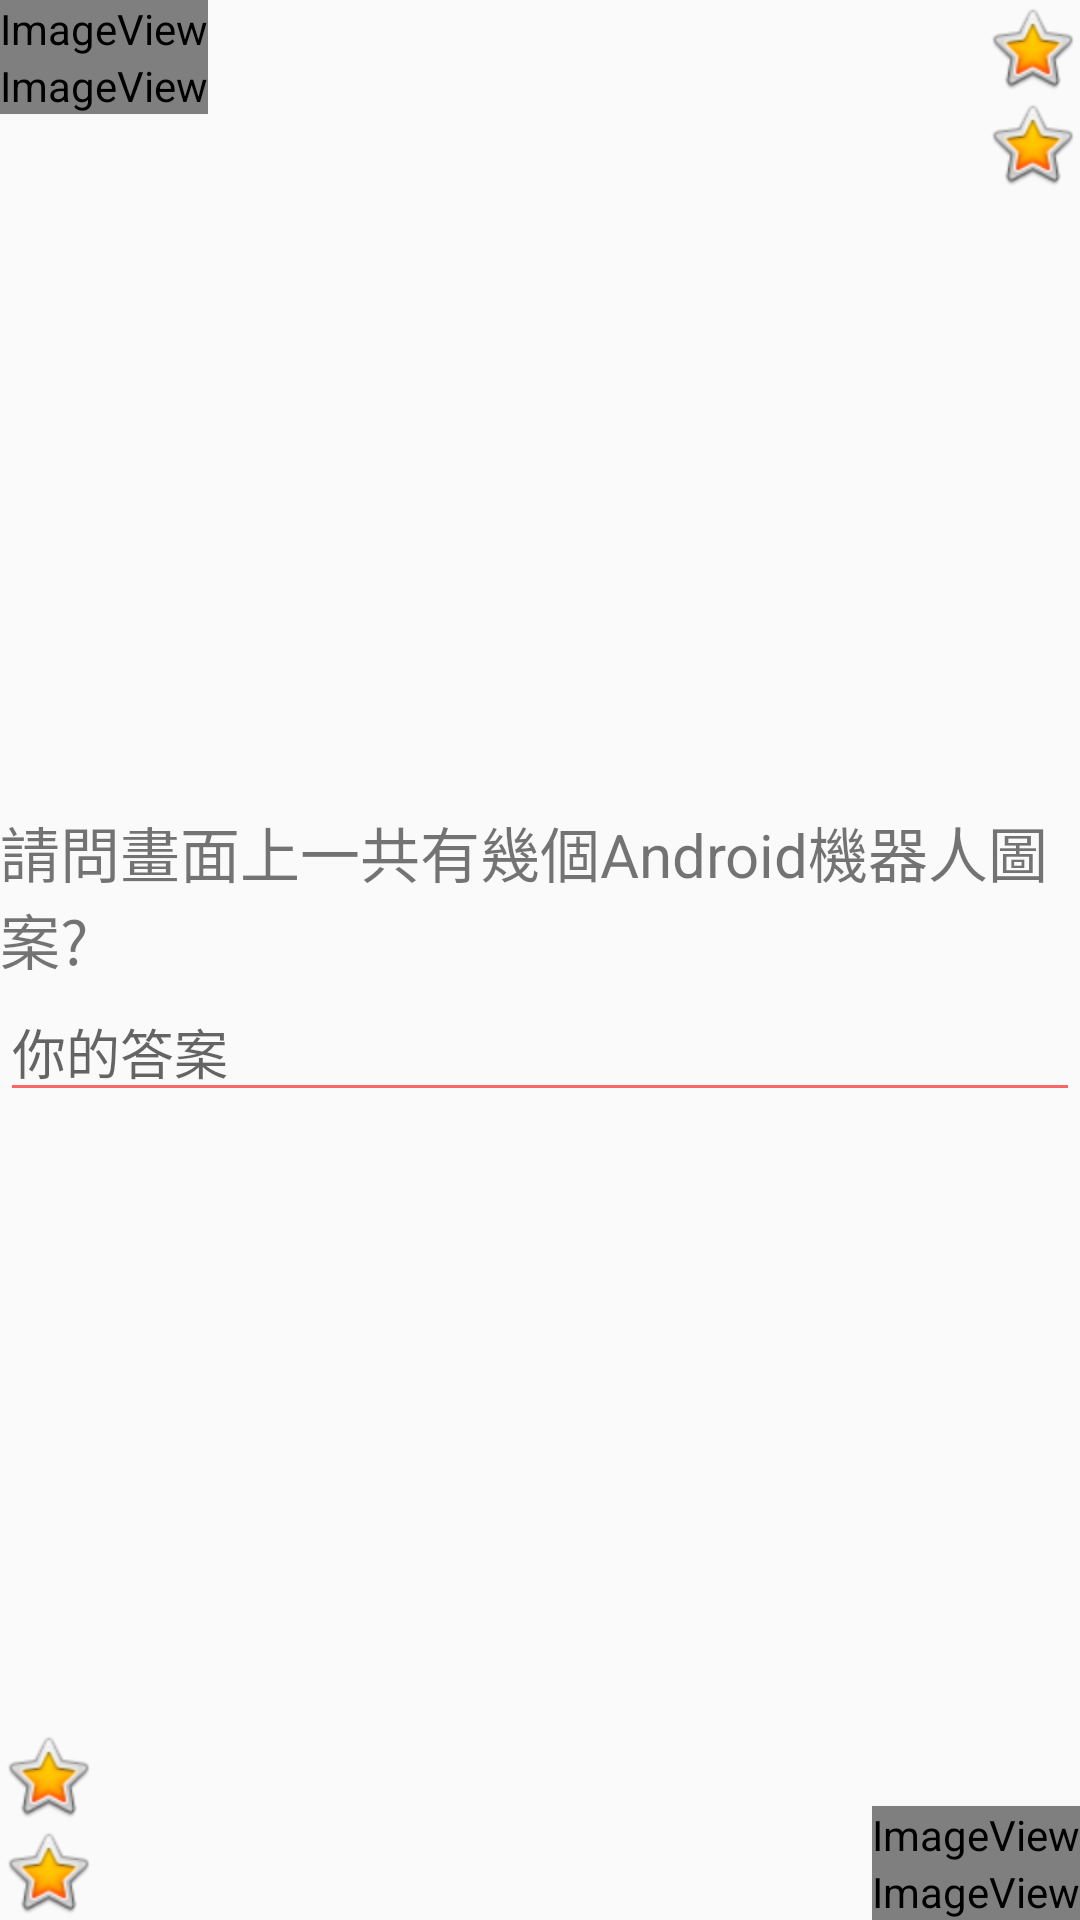

Icon bounding boxes for this 1080x1920 phone screenshot, format (x1, y1, x2, y2):
star on: (993, 10, 1073, 88), (993, 106, 1073, 184), (9, 1738, 89, 1816), (9, 1834, 89, 1912)
